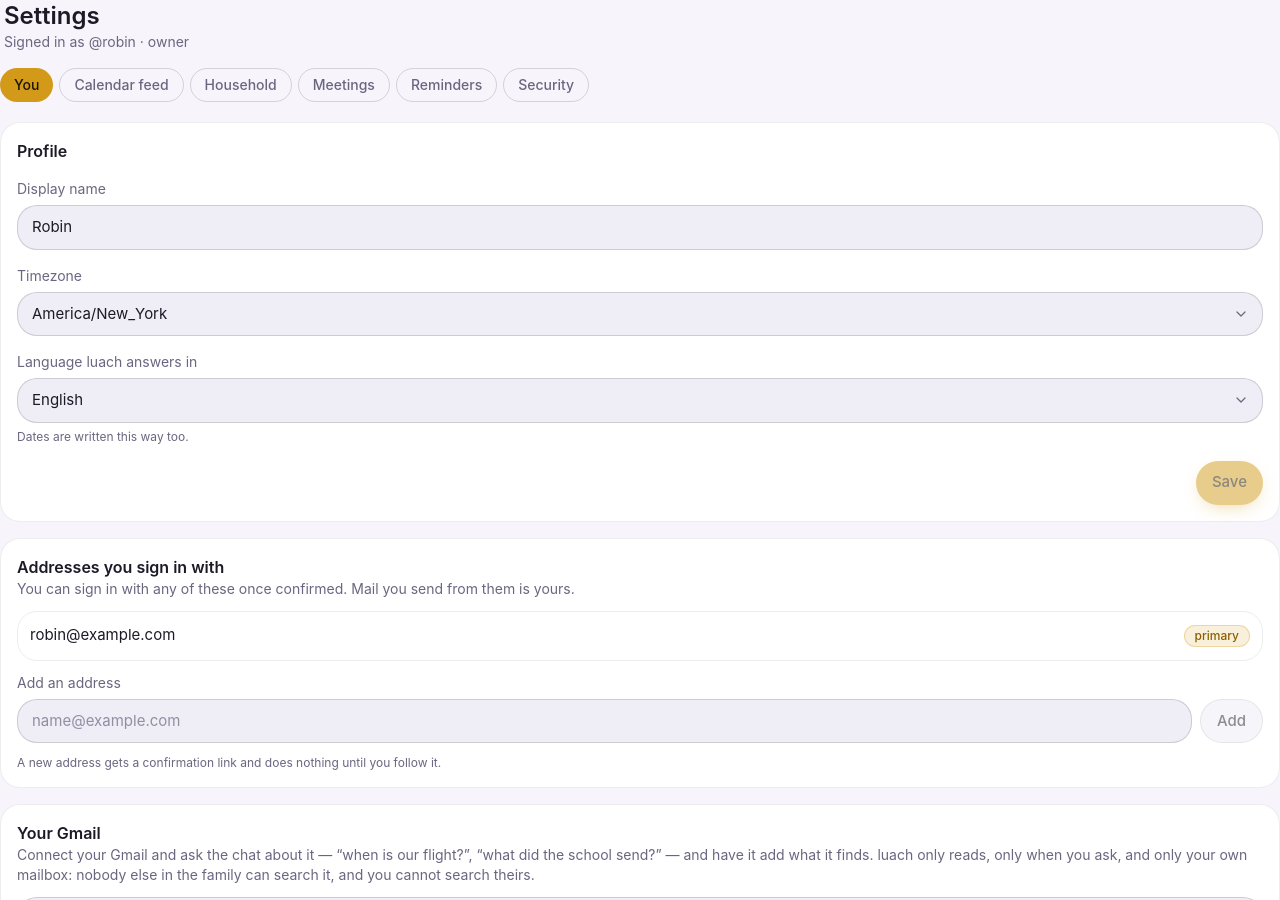
Scenario: everything a member can set › gives the owner the model menu under Household
Click the tab "Household" at (241, 85), box left=190, top=68, right=292, bottom=102
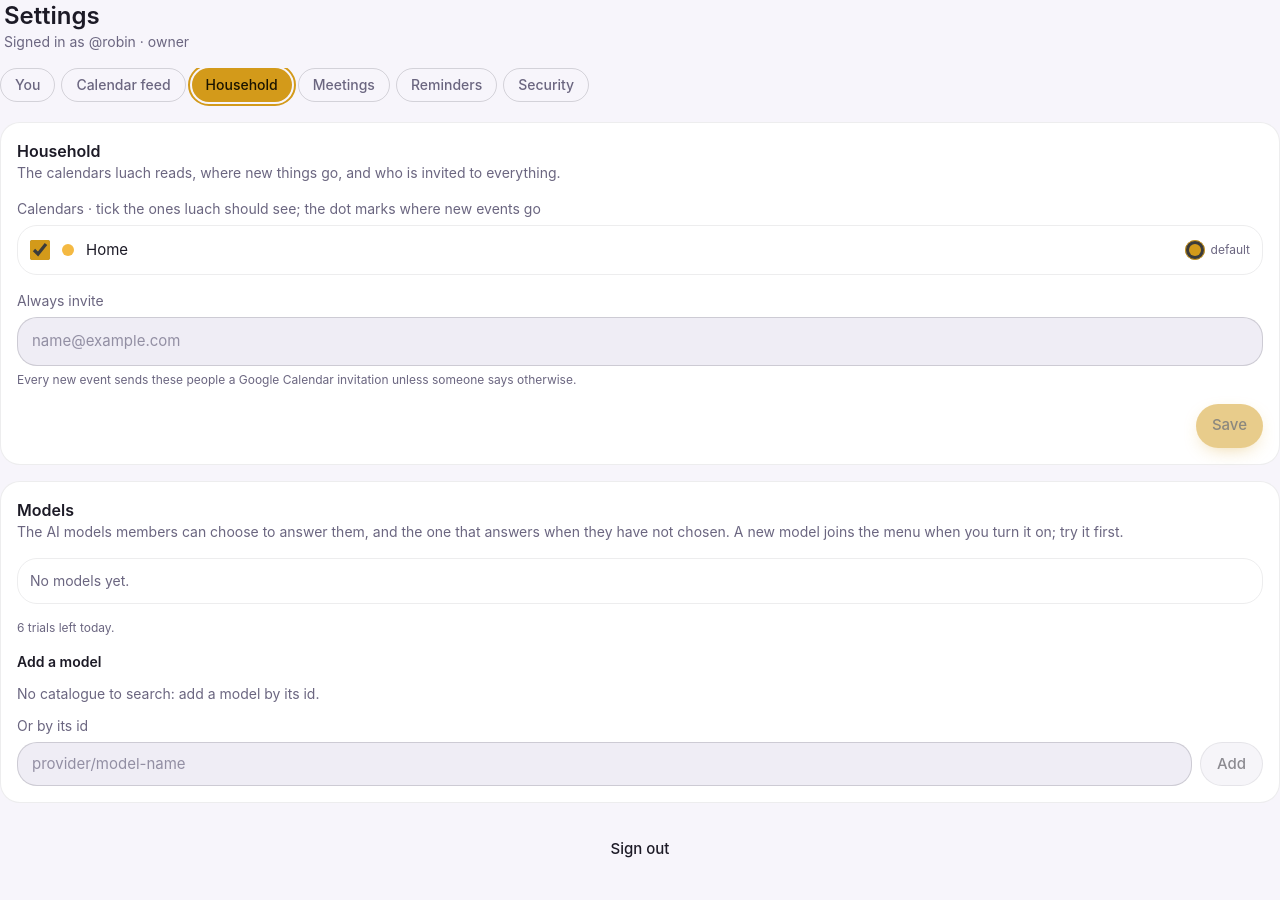
Now the heading "Models" is shown, box left=17, top=500, right=74, bottom=520
